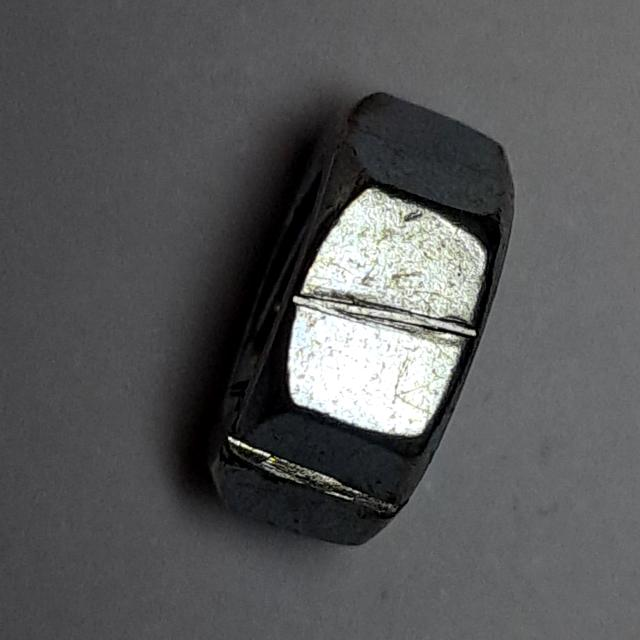Side_Scratches: (186, 72, 525, 570)
